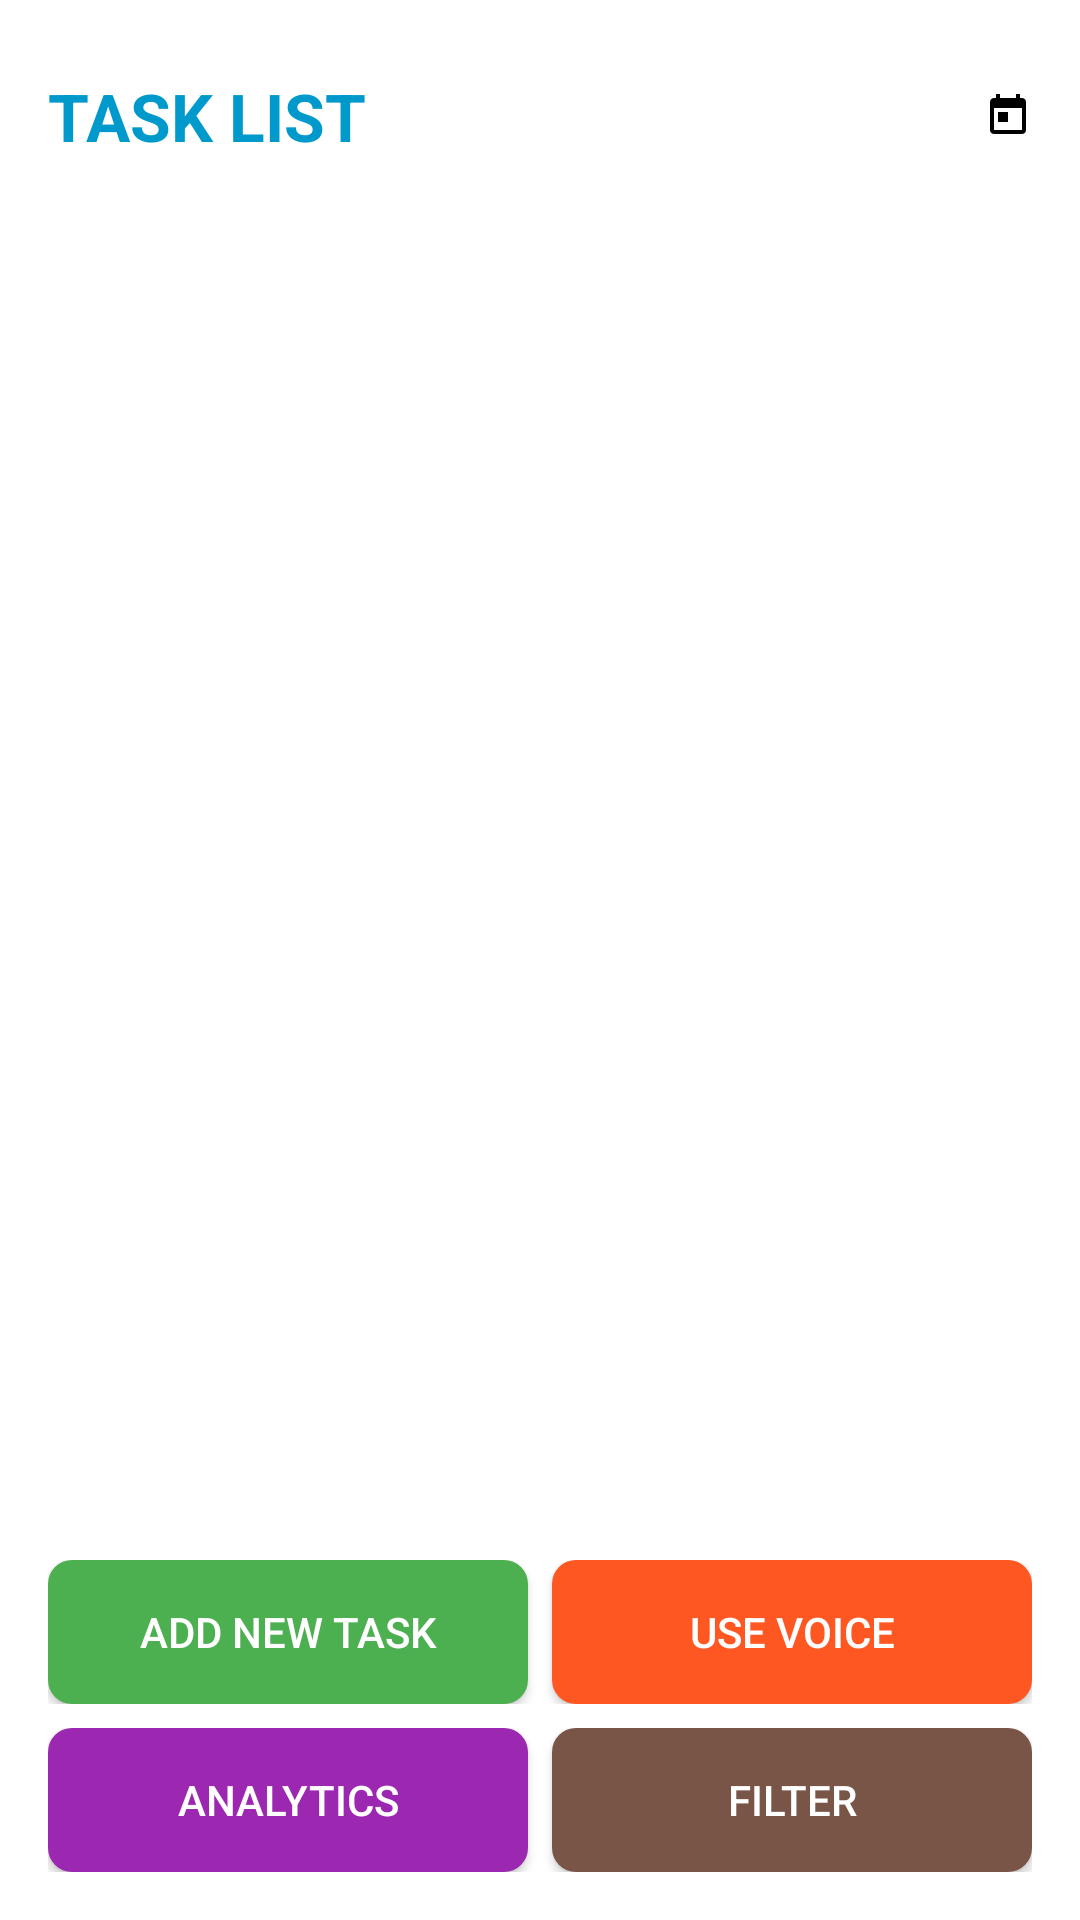

Locate icon controls on the screen. Image size 1080px x 1920px, boxes as (x1, y1, x2, y2).
Open Calendar: (990, 94, 1026, 134)
